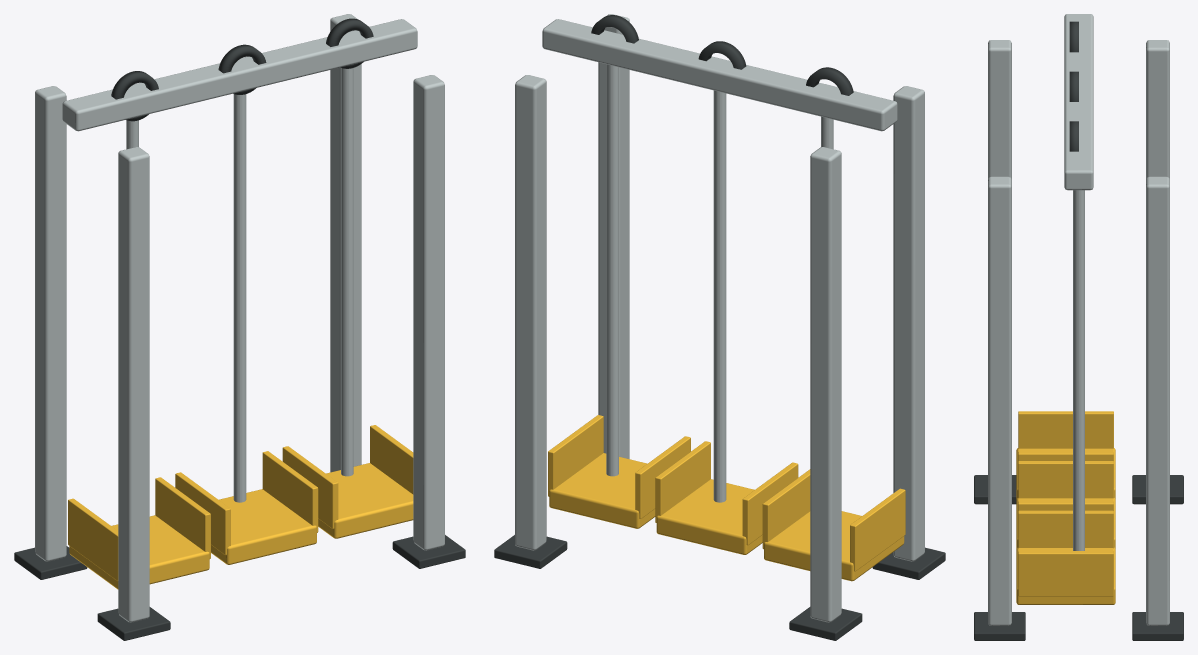
Rendered from mountain-border-checkpoint-mountain-border-checkpoint--9a692fe5__30327.glb.
3 renders of one model, left to right at view 1: azimuth 30°, elevation 25°; view 2: azimuth 150°, elevation 25°; view 3: azimuth 270°, elevation 25°, orthographic. The views are drawn at different scales.
Visible parts, largest first — view 1: mountain-border-checkpoint-snow-shovel-rack; view 2: mountain-border-checkpoint-snow-shovel-rack; view 3: mountain-border-checkpoint-snow-shovel-rack.
Boxes of the visible parts, left/top/right/bottom form: mountain-border-checkpoint-snow-shovel-rack: left=14, top=14, right=465, bottom=640; mountain-border-checkpoint-snow-shovel-rack: left=494, top=14, right=945, bottom=640; mountain-border-checkpoint-snow-shovel-rack: left=974, top=14, right=1183, bottom=640.
Size of the model in its own units: 1.02 by 1.47 by 0.57.
